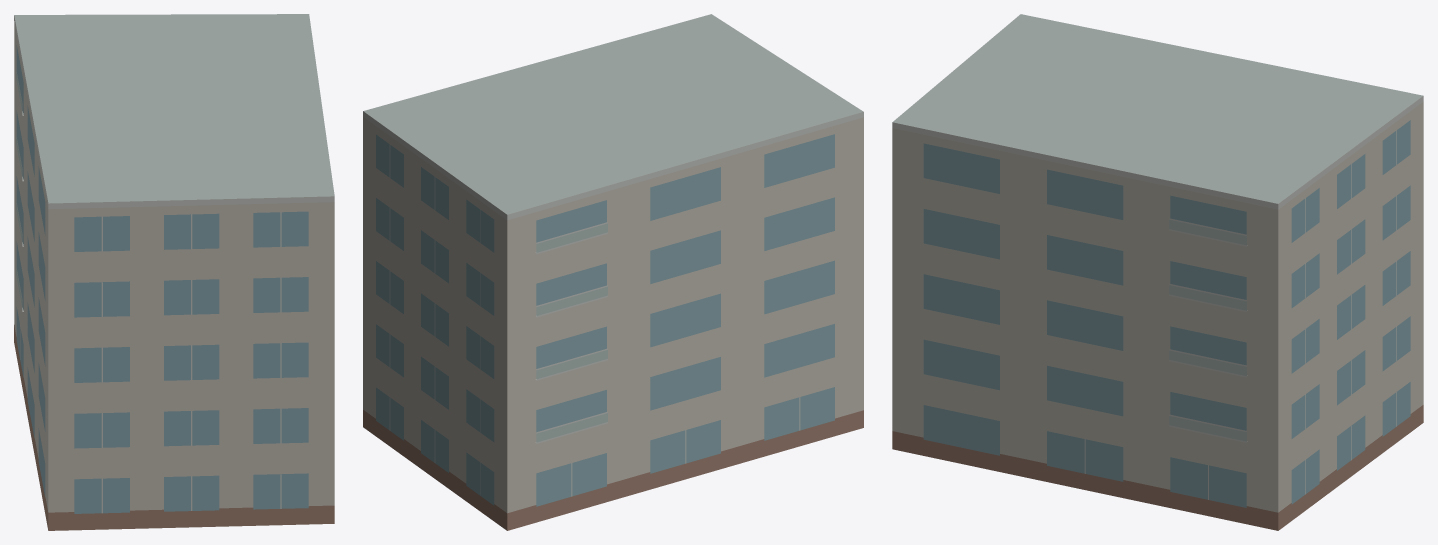
Rendered from survey-upis-32893758.glb.
The picture shows the model from 3 angles, left to right: view 1: azimuth 30°, elevation 25°; view 2: azimuth 150°, elevation 25°; view 3: azimuth 270°, elevation 25°; orthographic projection. The views are drawn at different scales.
Visible parts, largest first — view 1: survey-upis-32893758.tmp; view 2: survey-upis-32893758.tmp; view 3: survey-upis-32893758.tmp.
Part boxes in pixels (x1,y1,x2,y2): survey-upis-32893758.tmp: [14, 14, 334, 530]; survey-upis-32893758.tmp: [363, 14, 863, 530]; survey-upis-32893758.tmp: [892, 14, 1423, 530].
Size of the model in its own units: 17.45 by 14 by 20.63.
